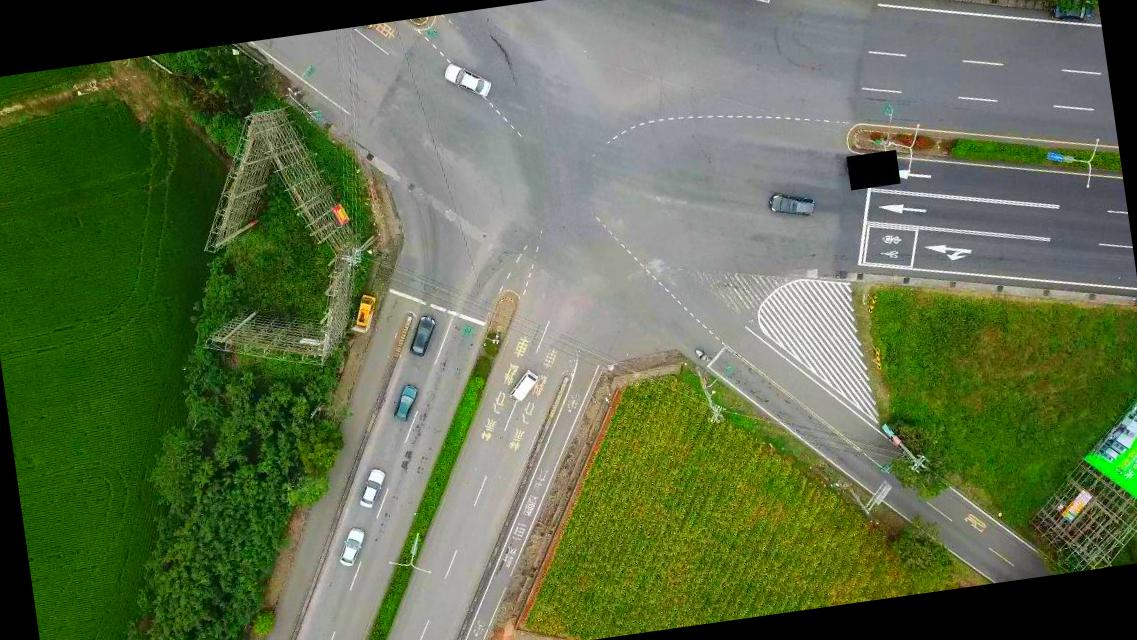vehicle: (442, 60, 493, 100), (352, 464, 390, 512), (765, 187, 815, 222), (332, 526, 368, 568), (406, 315, 438, 358), (386, 384, 420, 424), (1048, 0, 1094, 28), (506, 368, 540, 403), (349, 291, 377, 330)
